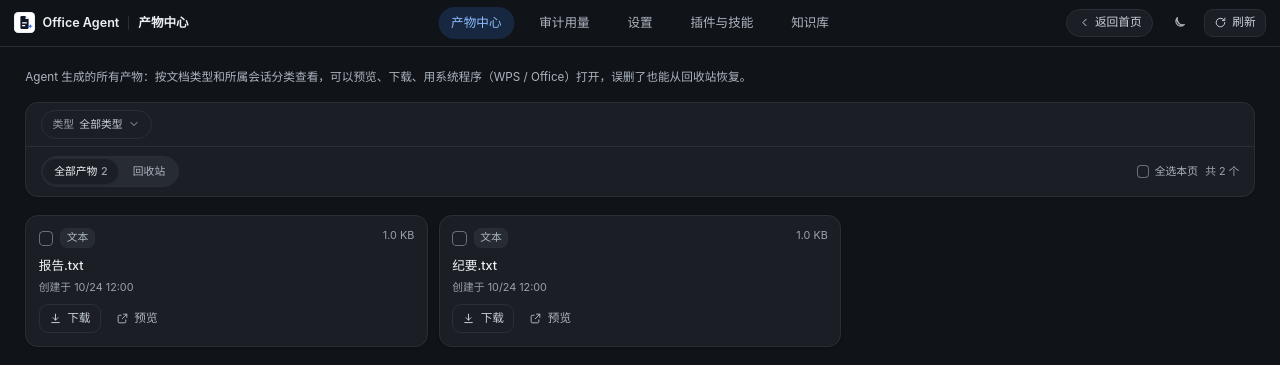
it: ArtifactsPage 多选删除 › 再次勾选取消该项选择
Click the checkbox named "选择 报告.txt": coordinates (46, 238) [39,231,53,246]
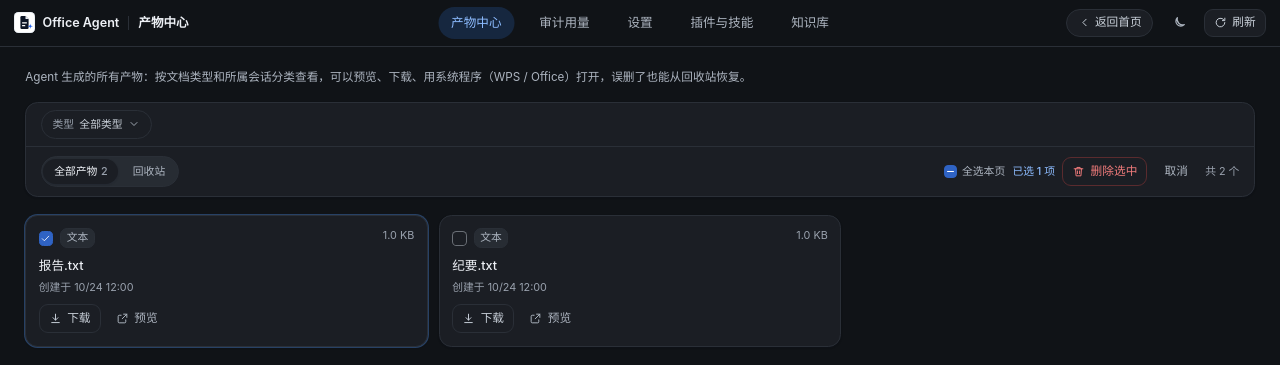
expect the text "已选 1 项" is shown: met, box [1012,164,1055,179]
Click the checkbox named "选择 报告.txt": coordinates (46, 238) [39,231,53,246]
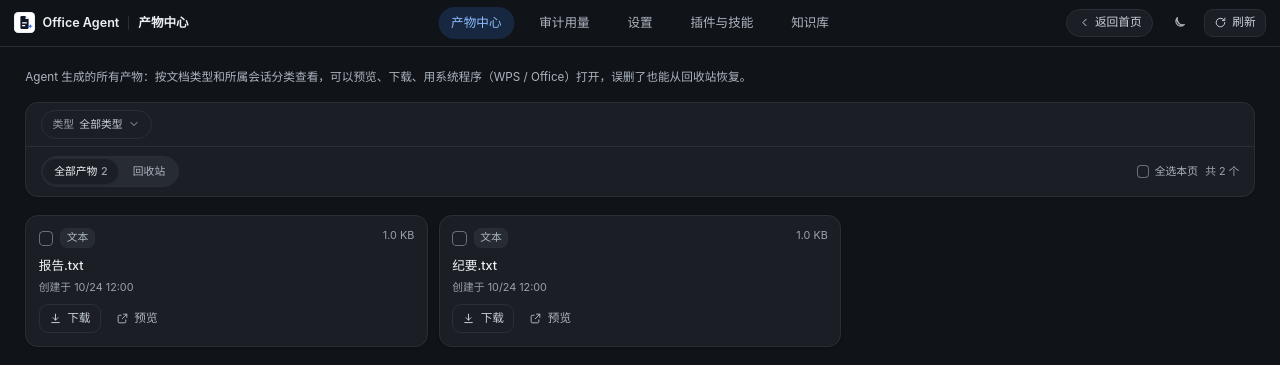
expect the text "已选" is gone: met
